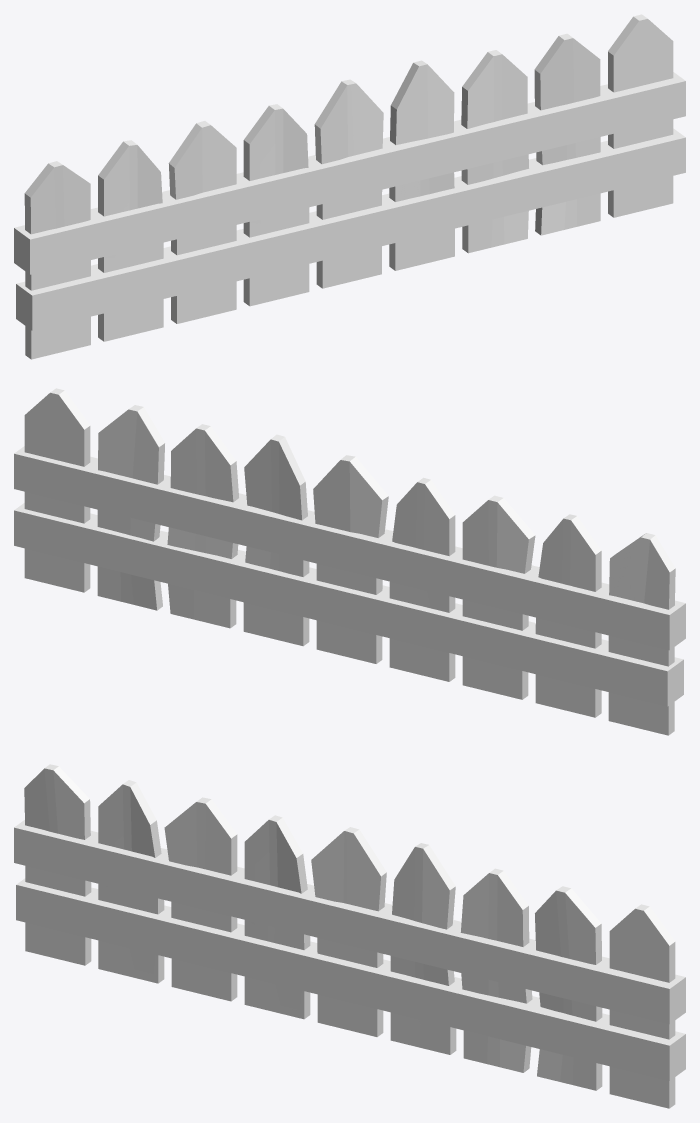
Rendered from hedge-type-001.obj.
The picture shows the model from 3 angles, top to bottom: view 1: azimuth 30°, elevation 25°; view 2: azimuth 150°, elevation 25°; view 3: azimuth 330°, elevation 25°; orthographic projection.
Visible parts, largest first — view 1: hedge-type-001.001; view 2: hedge-type-001.001; view 3: hedge-type-001.001.
Boxes of the visible parts, x1,y1,x2,y2 form: hedge-type-001.001: (14, 14, 685, 359); hedge-type-001.001: (14, 388, 685, 735); hedge-type-001.001: (14, 764, 685, 1108).
Size of the model in its own units: 2.44 by 0.7083 by 0.1139.
